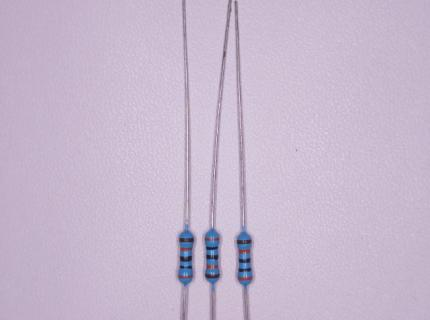Black band: (206, 254, 219, 260), (180, 256, 192, 262), (179, 265, 193, 270), (238, 268, 252, 273), (238, 258, 251, 263), (206, 246, 219, 250)
Brown band: (179, 237, 194, 243), (205, 273, 220, 279), (237, 239, 252, 244)
Orange band: (237, 276, 254, 281), (239, 249, 251, 255), (178, 275, 193, 279), (180, 247, 192, 252), (205, 237, 220, 241), (206, 264, 218, 269)
